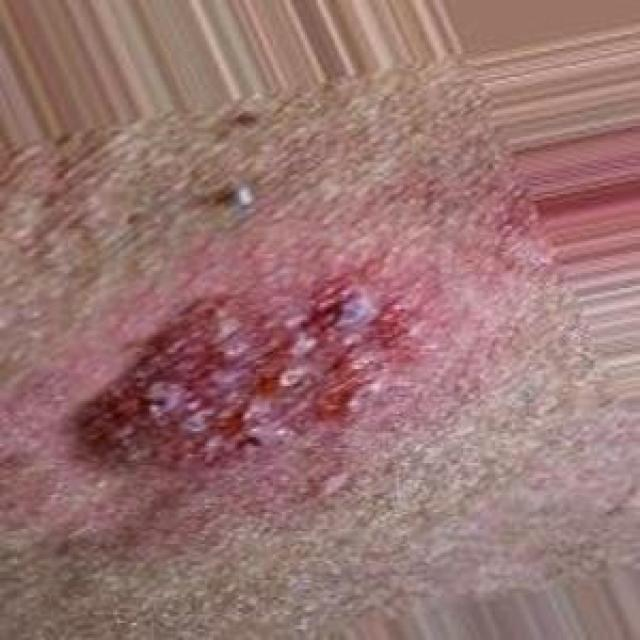Shingles: (57, 268, 419, 478)
